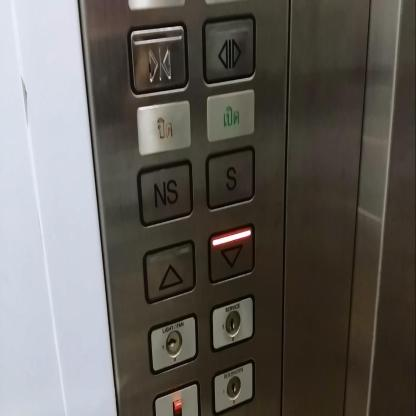NS: (135, 154, 196, 228)
S: (204, 140, 258, 214)
bt_keyhole: (146, 308, 200, 376), (208, 289, 256, 355), (212, 355, 259, 415)
close: (126, 18, 191, 98)
down: (204, 219, 258, 285)
open: (200, 12, 259, 87)
up: (140, 235, 198, 308)
